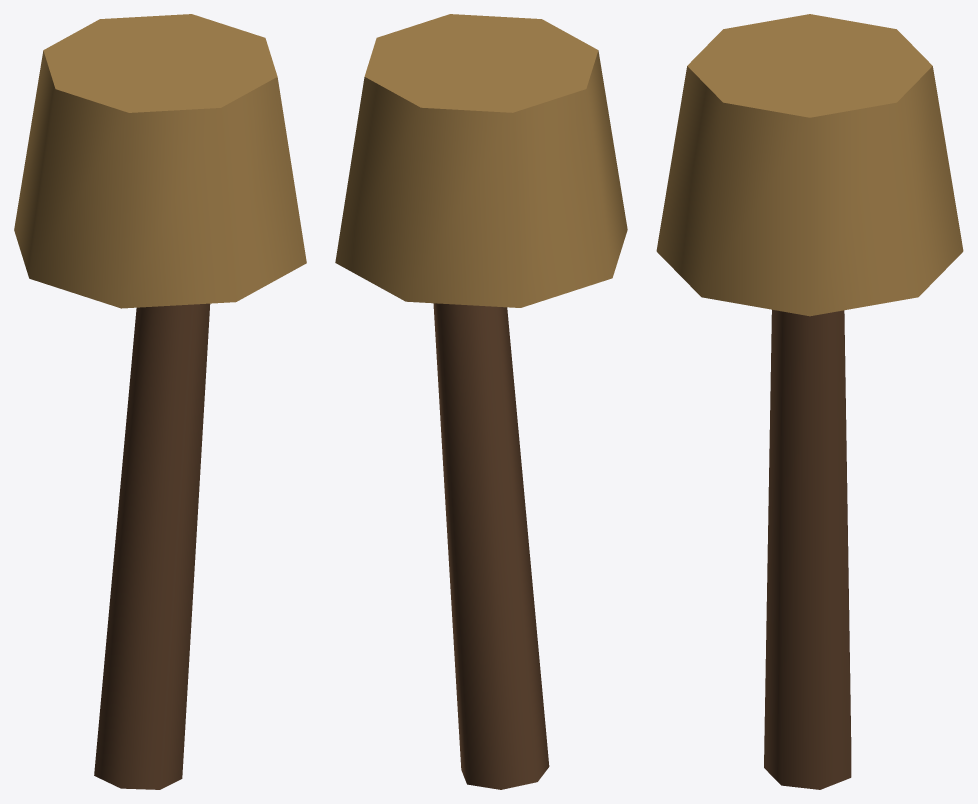
Rendered from vendor_helper_role.glb.
3 renders of one model, left to right at view 1: azimuth 30°, elevation 25°; view 2: azimuth 150°, elevation 25°; view 3: azimuth 270°, elevation 25°, orthographic.
Parts seen in each view (by area): view 1: role_symbol, role_handle; view 2: role_symbol, role_handle; view 3: role_symbol, role_handle.
Boxes of the visible parts, bbox=[...] form: role_symbol: bbox=[14, 14, 306, 308]; role_handle: bbox=[94, 303, 210, 789]; role_symbol: bbox=[335, 14, 627, 307]; role_handle: bbox=[433, 303, 549, 789]; role_symbol: bbox=[656, 14, 963, 316]; role_handle: bbox=[764, 309, 851, 789].
Size of the model in its own units: 0.3 by 0.7725 by 0.3.
